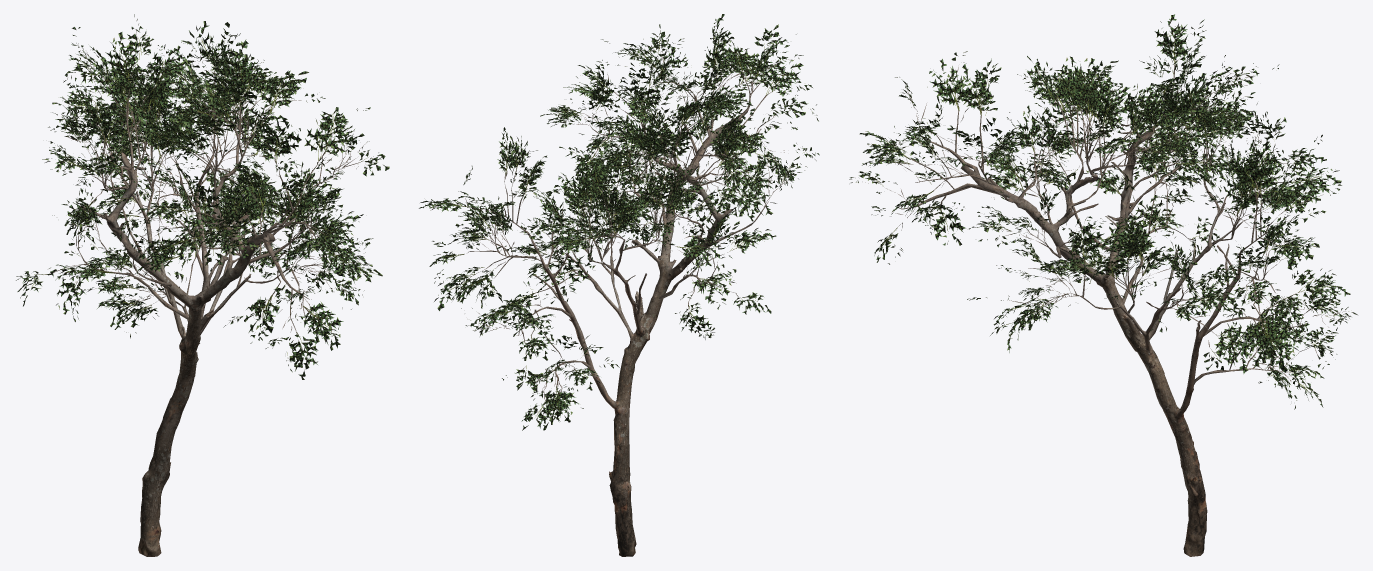
3 views of the same model, side by side, from view 1: azimuth 30°, elevation 25°; view 2: azimuth 150°, elevation 25°; view 3: azimuth 270°, elevation 25° (orthographic). The views are drawn at different scales.
Bounding box in the file's own units: 2.91 × 4.54 × 4.21.
Materials: 3 (3 with a texture image).
